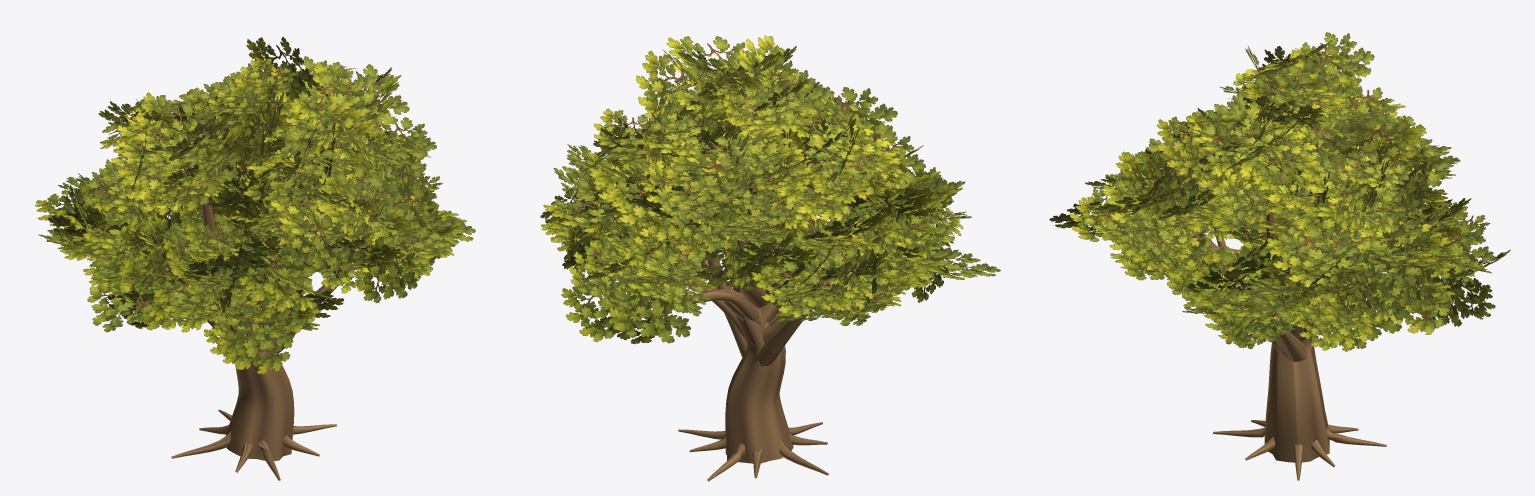
The model's file is riverside-oak-v001.glb.
The picture shows the model from 3 angles, left to right: view 1: azimuth 30°, elevation 25°; view 2: azimuth 150°, elevation 25°; view 3: azimuth 270°, elevation 25°; orthographic projection.
Visible parts, largest first — view 1: Oak_Painted_Foliage, Oak_Trunk_Branches_Roots; view 2: Oak_Painted_Foliage, Oak_Trunk_Branches_Roots; view 3: Oak_Painted_Foliage, Oak_Trunk_Branches_Roots.
Part boxes in pixels (box(x1,y1,x2,y2)): Oak_Painted_Foliage: box(35, 37, 475, 374); Oak_Trunk_Branches_Roots: box(126, 141, 342, 480); Oak_Painted_Foliage: box(540, 35, 1000, 344); Oak_Trunk_Branches_Roots: box(636, 165, 839, 481); Oak_Painted_Foliage: box(1049, 32, 1510, 351); Oak_Trunk_Branches_Roots: box(1171, 183, 1427, 480).
Bounding box in the file's own units: 11.23 × 9.97 × 11.
Materials: 2 (1 with a texture image).
